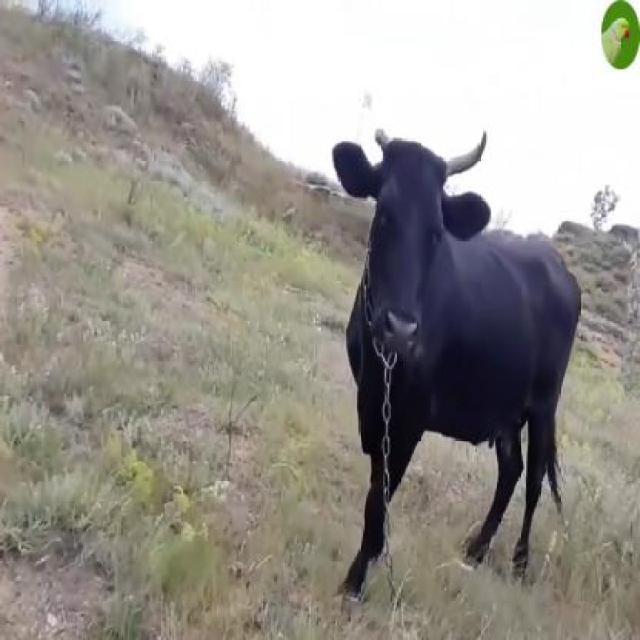Cow: (332, 123, 582, 599)
